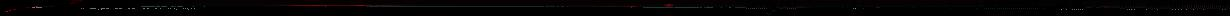Blue cone: (11, 9, 18, 10), (26, 7, 30, 8)
Yellow cone: (662, 4, 675, 7), (1100, 6, 1110, 8)
